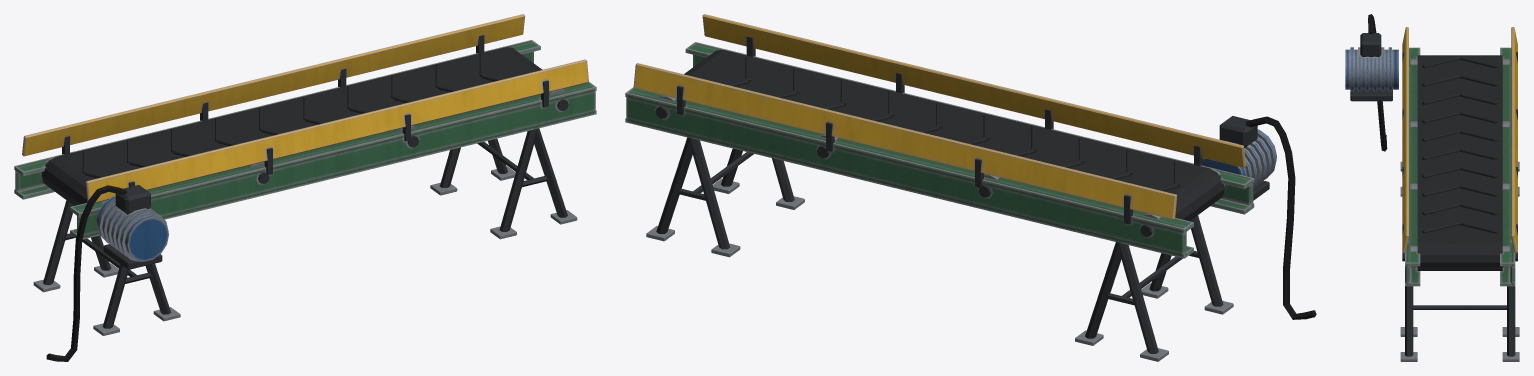
The model's file is cinta_transportadora.fbx.
The picture shows the model from 3 angles, left to right: view 1: azimuth 30°, elevation 25°; view 2: azimuth 150°, elevation 25°; view 3: azimuth 270°, elevation 25°; orthographic projection. The views are drawn at different scales.
Parts seen in each view (by area): view 1: cinta_transportadora; view 2: cinta_transportadora; view 3: cinta_transportadora.
Boxes of the visible parts, x1,y1,x2,y2 form: cinta_transportadora: (14, 14, 596, 361); cinta_transportadora: (625, 14, 1316, 361); cinta_transportadora: (1345, 14, 1519, 361).
Bounding box in the file's own units: 6.51 × 1.93 × 2.05.
Materials: 1 (1 with a texture image).
